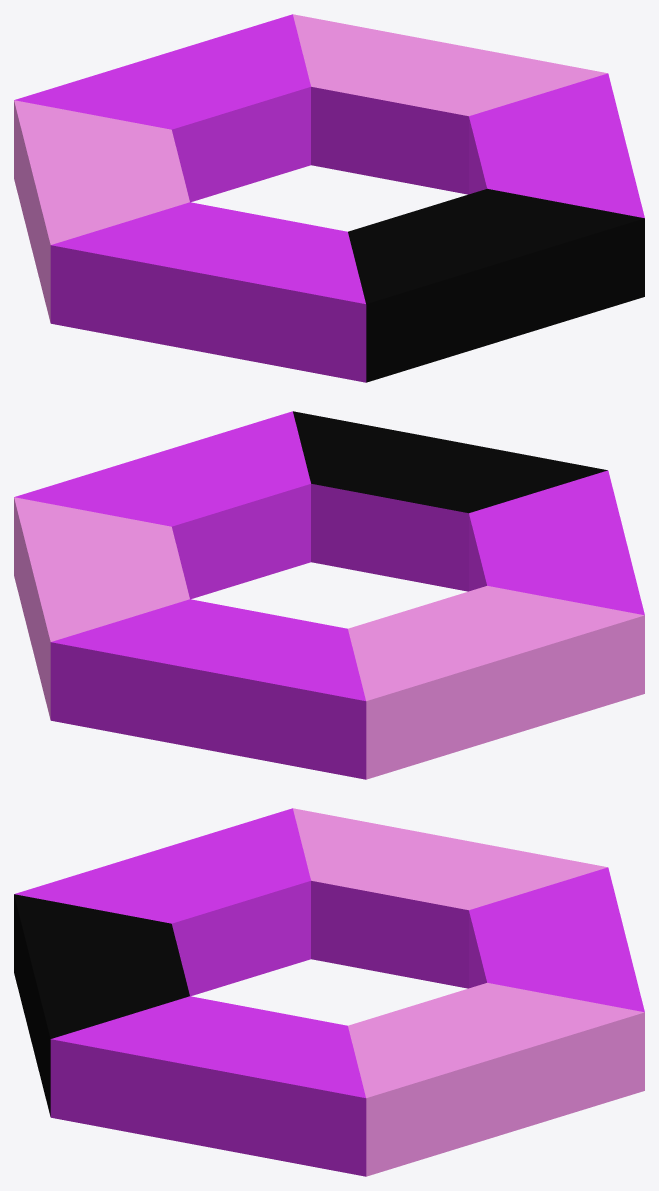
The model's file is Mechanism1.fbx.
3 views of the same model, one above another, from view 1: azimuth 30°, elevation 25°; view 2: azimuth 150°, elevation 25°; view 3: azimuth 270°, elevation 25° (orthographic).
Parts seen in each view (by area): view 1: Cylinder.022, Cylinder.021, Cylinder.019, Cylinder.024, Cylinder.023, Cylinder.020; view 2: Cylinder.024, Cylinder.023, Cylinder.021, Cylinder.020, Cylinder.022, Cylinder.019, Cylinder.012; view 3: Cylinder.020, Cylinder.023, Cylinder.022, Cylinder.012, Cylinder.021, Cylinder.024, Cylinder.019.
Part boxes in pixels (left/top/right/bottom): Cylinder.022: left=50, top=202, right=366, bottom=382; Cylinder.021: left=348, top=188, right=644, bottom=382; Cylinder.019: left=293, top=14, right=607, bottom=194; Cylinder.024: left=14, top=14, right=310, bottom=202; Cylinder.023: left=14, top=100, right=189, bottom=322; Cylinder.020: left=469, top=73, right=644, bottom=218; Cylinder.024: left=50, top=599, right=366, bottom=779; Cylinder.023: left=348, top=585, right=644, bottom=779; Cylinder.021: left=293, top=411, right=607, bottom=591; Cylinder.020: left=14, top=411, right=310, bottom=599; Cylinder.022: left=469, top=470, right=644, bottom=615; Cylinder.019: left=14, top=497, right=189, bottom=641; Cylinder.012: left=14, top=498, right=50, bottom=719; Cylinder.020: left=50, top=996, right=366, bottom=1176; Cylinder.023: left=293, top=808, right=607, bottom=988; Cylinder.022: left=14, top=808, right=310, bottom=996; Cylinder.012: left=366, top=1012, right=644, bottom=1176; Cylinder.021: left=14, top=894, right=189, bottom=1116; Cylinder.024: left=469, top=867, right=644, bottom=1012; Cylinder.019: left=348, top=982, right=644, bottom=1097.
Size of the model in its own units: 486 by 61.38 by 447.
